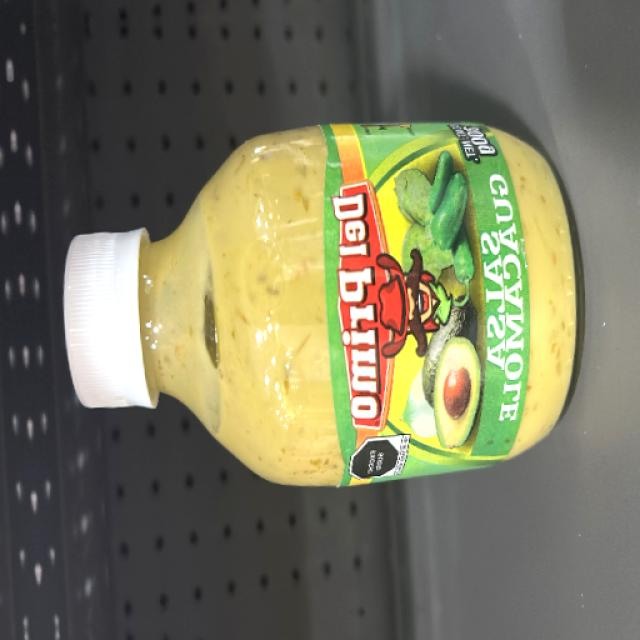delPrimoSalsa: (58, 126, 580, 469)
